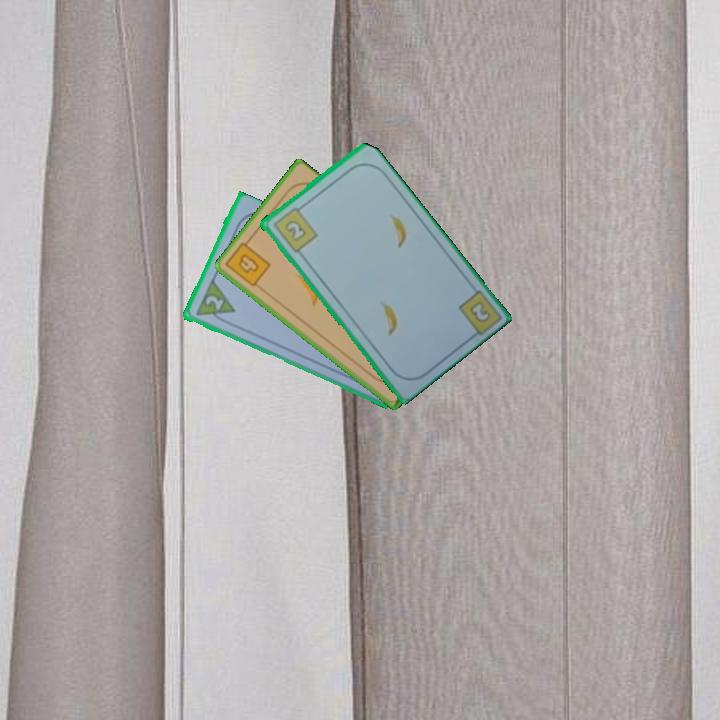2b: (269, 202, 320, 255), (465, 297, 493, 326)
2p: (201, 291, 226, 313)
4b: (222, 235, 273, 290)
